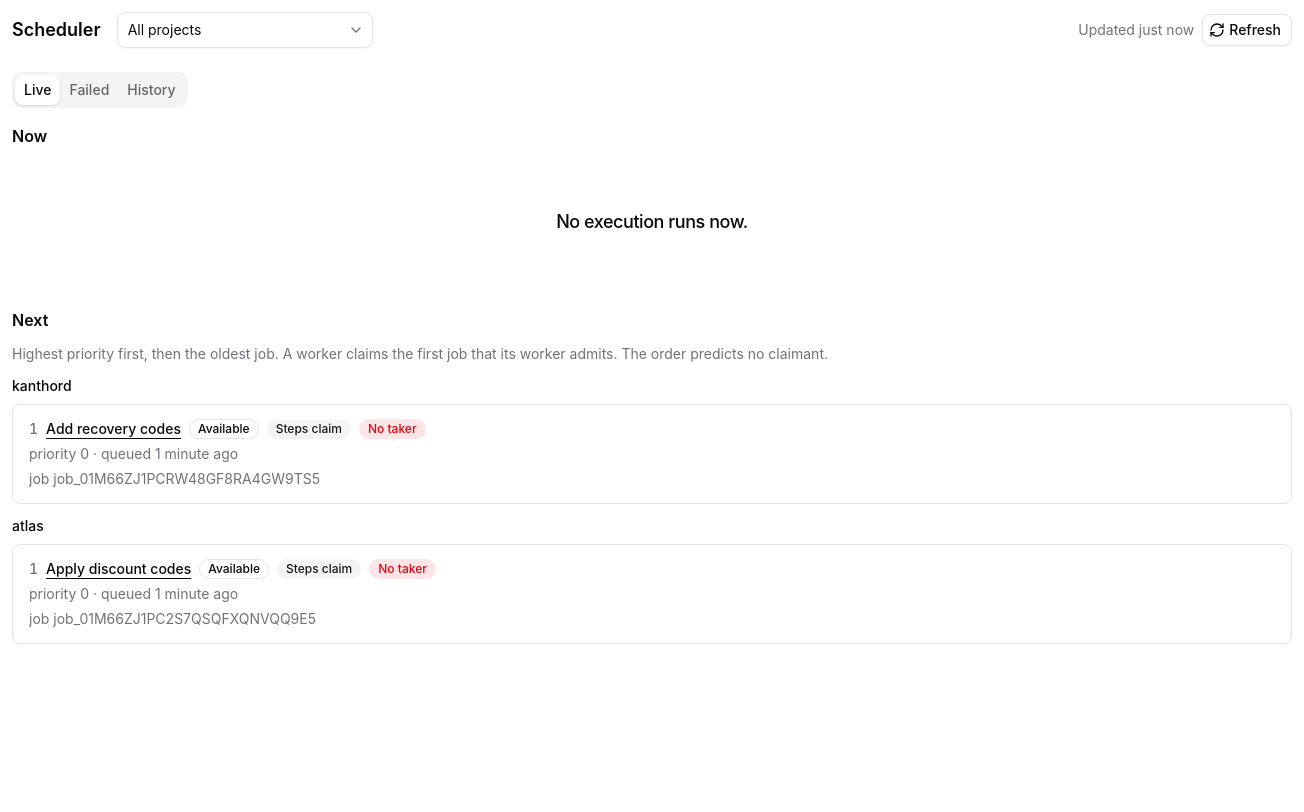
Test: SchedulerScreen scope › narrows the sections when the human picks a project
Click the dropdown labelled "project" at x=245, y=30, box [117, 12, 373, 48]
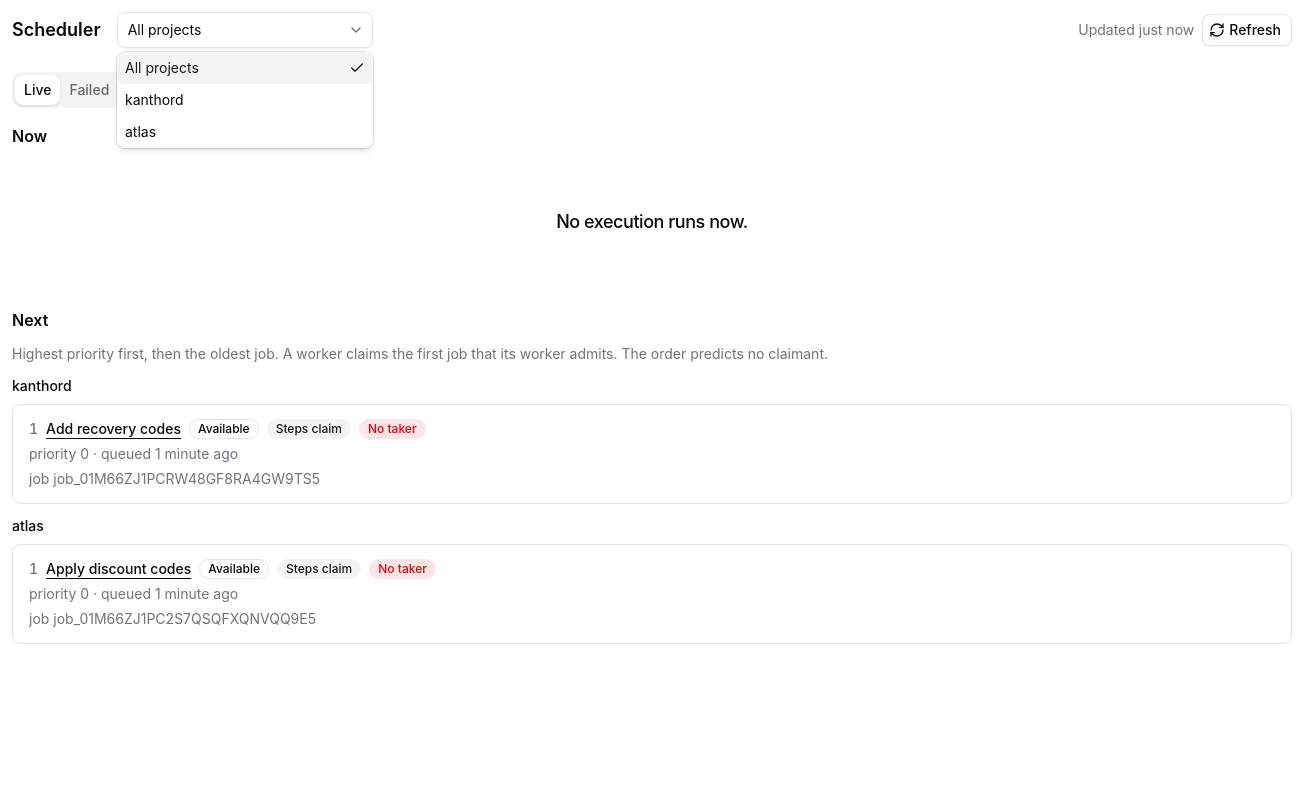
Click the option "kanthord" at x=154, y=100, box [125, 91, 184, 108]
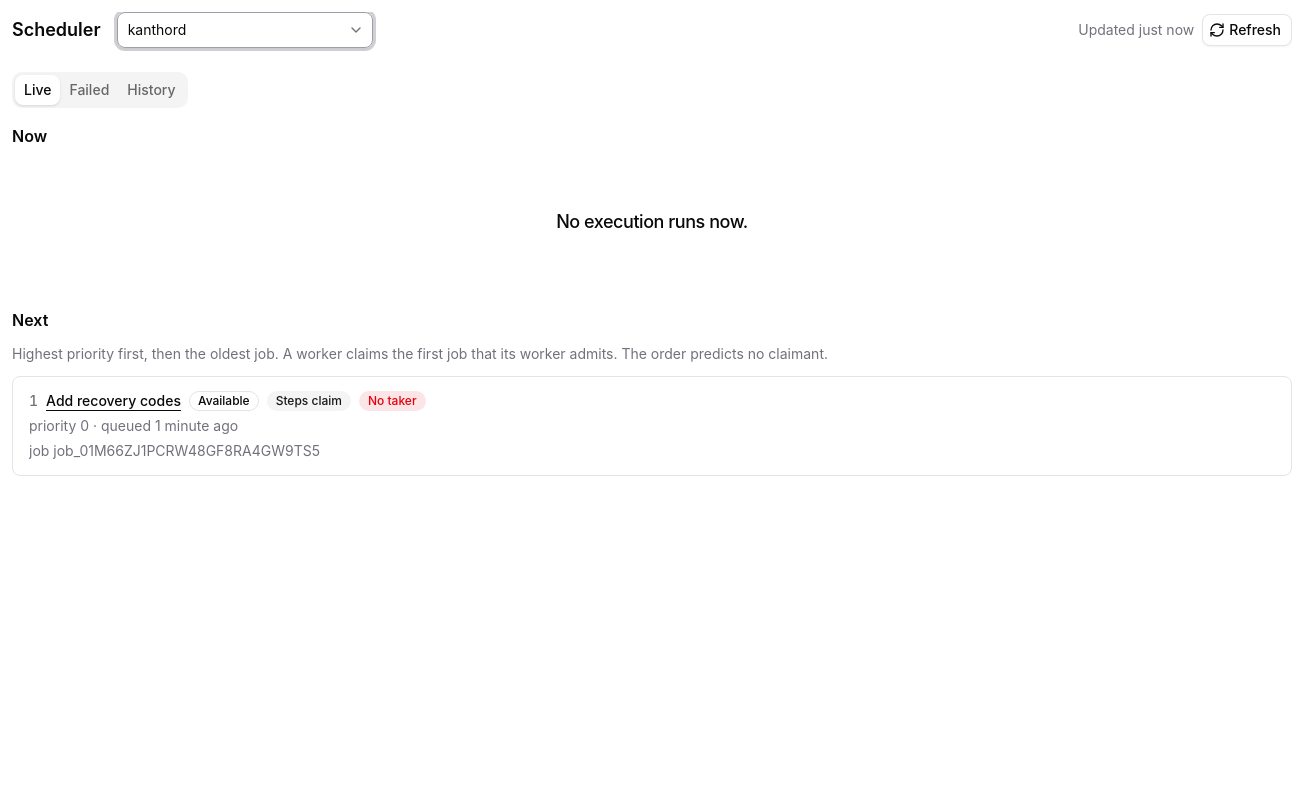
Expected: the link "Add recovery codes" is shown, [46, 391, 181, 411]
Expected: the link "Apply discount codes" is gone
